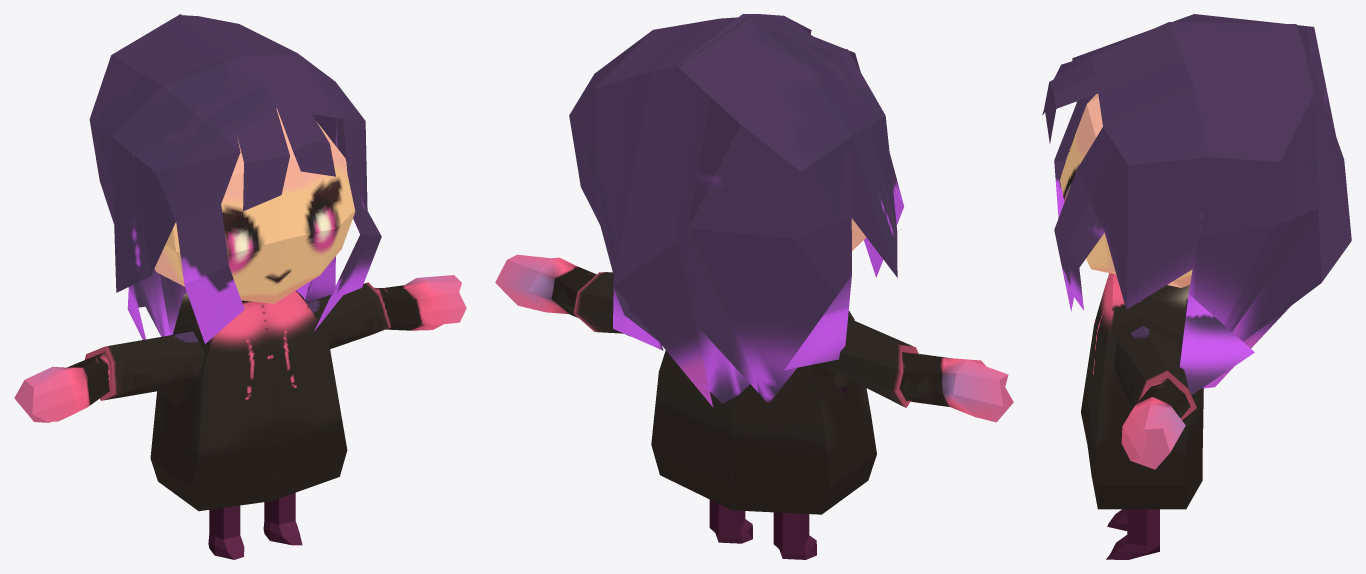
File: characterFin.glb
3 views of the same model, side by side, from view 1: azimuth 30°, elevation 25°; view 2: azimuth 150°, elevation 25°; view 3: azimuth 270°, elevation 25° (orthographic). The views are drawn at different scales.
Visible parts, largest first — view 1: Cube.002, Cube.001, Cube, Cylinder.001, Cylinder.002; view 2: Cube.002, Cube.001, Cylinder.001, Cylinder.002; view 3: Cube.002, Cube.001, Cube, Cylinder.002.
Part boxes in pixels (x1,y1,x2,y2): Cube.002: (89, 14, 381, 343); Cube.001: (14, 275, 466, 511); Cube: (154, 108, 355, 303); Cylinder.001: (208, 505, 244, 559); Cylinder.002: (263, 492, 302, 545); Cube.002: (569, 14, 904, 407); Cube.001: (495, 254, 1013, 514); Cylinder.001: (773, 512, 816, 559); Cylinder.002: (709, 474, 752, 543); Cube.002: (1042, 14, 1351, 394); Cube.001: (1081, 273, 1203, 509); Cube: (1060, 93, 1192, 287); Cylinder.002: (1106, 509, 1159, 559).
Size of the model in its own units: 5.16 by 5.29 by 2.87.
Materials: 3 (1 with a texture image).
